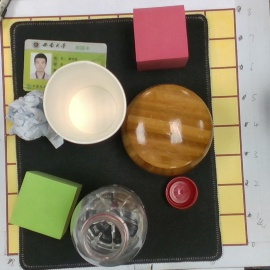bottle: (71, 186, 155, 265)
card: (24, 37, 108, 90)
chess: (125, 86, 213, 176)
cup: (43, 61, 127, 145)
